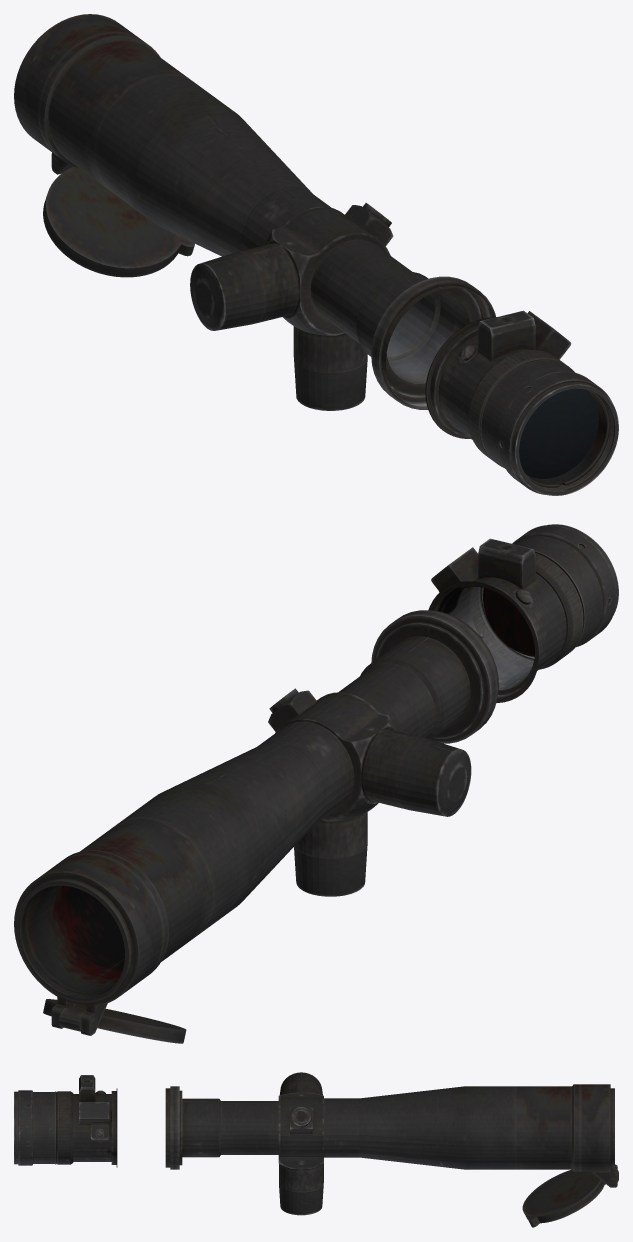
3 renders of one model, top to bottom at view 1: azimuth 30°, elevation 25°; view 2: azimuth 150°, elevation 25°; view 3: azimuth 270°, elevation 25°, orthographic. The views are drawn at different scales.
Visible parts, largest first — view 1: TW_5d0a3a58d7ad1a669c15ca14_PZ_Import; view 2: TW_5d0a3a58d7ad1a669c15ca14_PZ_Import; view 3: TW_5d0a3a58d7ad1a669c15ca14_PZ_Import.
Boxes of the visible parts, bbox=[...] form: TW_5d0a3a58d7ad1a669c15ca14_PZ_Import: bbox=[14, 14, 618, 495]; TW_5d0a3a58d7ad1a669c15ca14_PZ_Import: bbox=[14, 524, 618, 1043]; TW_5d0a3a58d7ad1a669c15ca14_PZ_Import: bbox=[14, 1072, 618, 1227].
Size of the model in its own units: 0.0447 by 0.2036 by 0.0496.
1 material, 1 textured.
